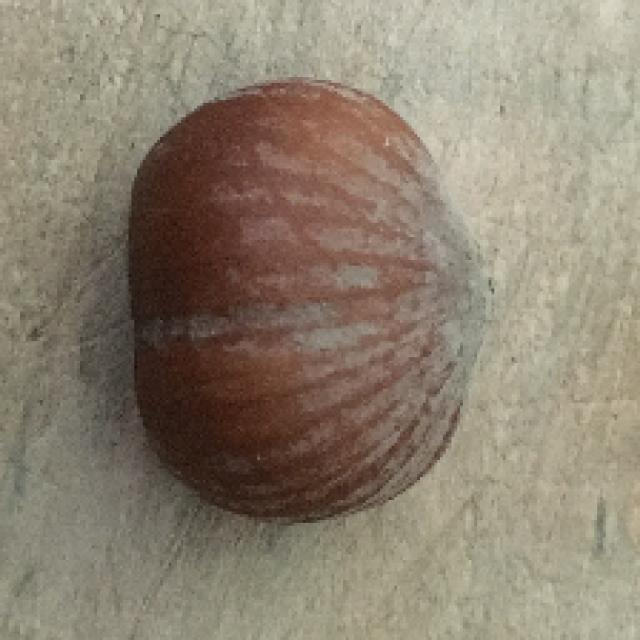qualityHazelnut: (117, 80, 477, 532)
